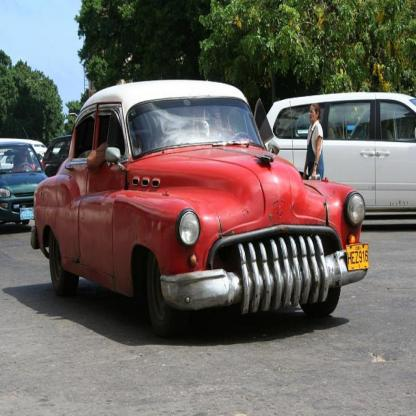Car: (1, 80, 416, 340)
